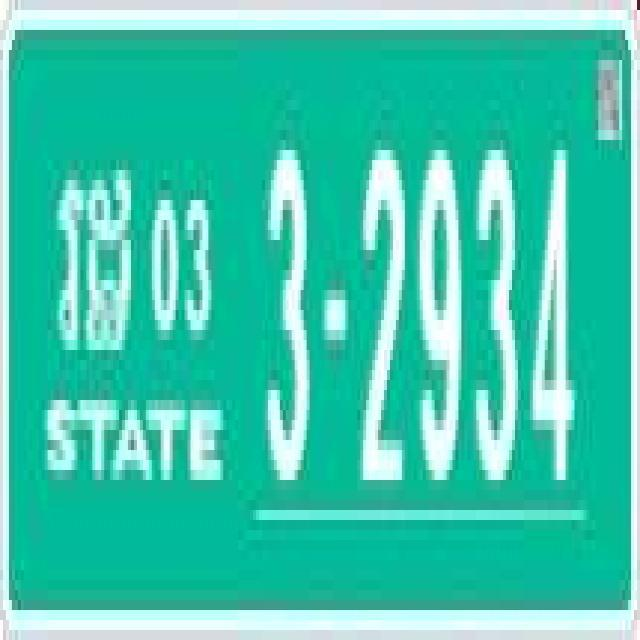State: (51, 150, 139, 378)
